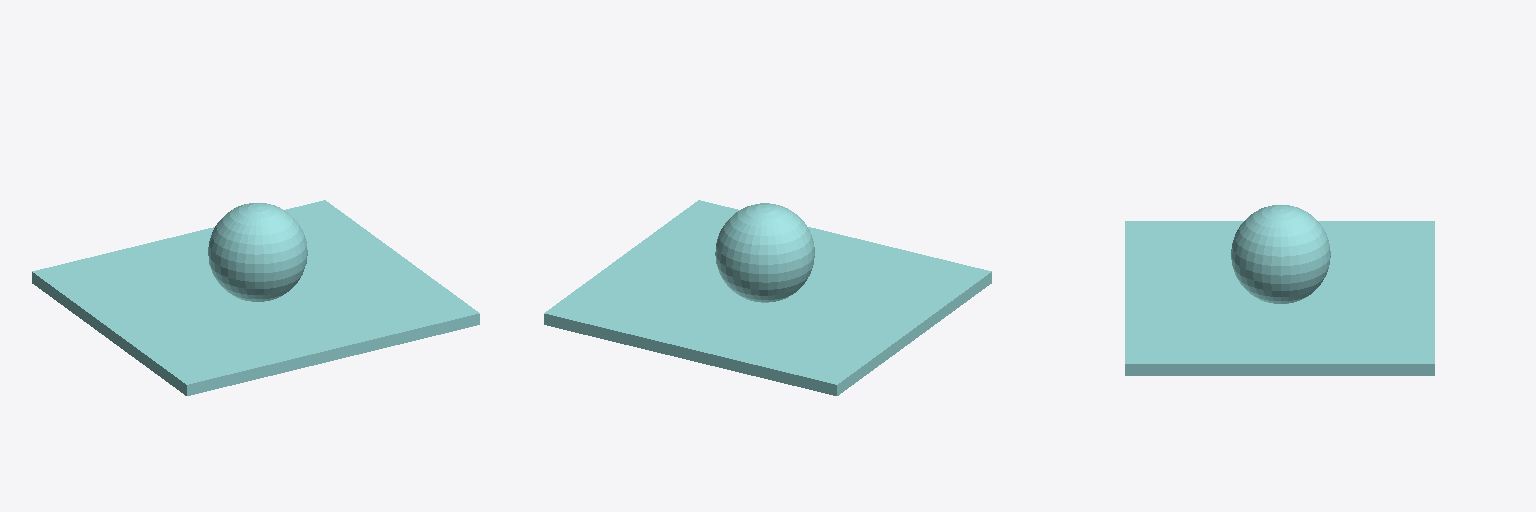
3 renders of one model, left to right at view 1: azimuth 30°, elevation 25°; view 2: azimuth 150°, elevation 25°; view 3: azimuth 270°, elevation 25°, orthographic.
Parts seen in each view (by area): view 1: Hole; view 2: Hole; view 3: Hole.
Part boxes in pixels (x1,y1,x2,y2): Hole: (32,200,479,395); Hole: (544,200,991,395); Hole: (1125,205,1434,375).
Size of the model in its own units: 128 by 39.95 by 117.